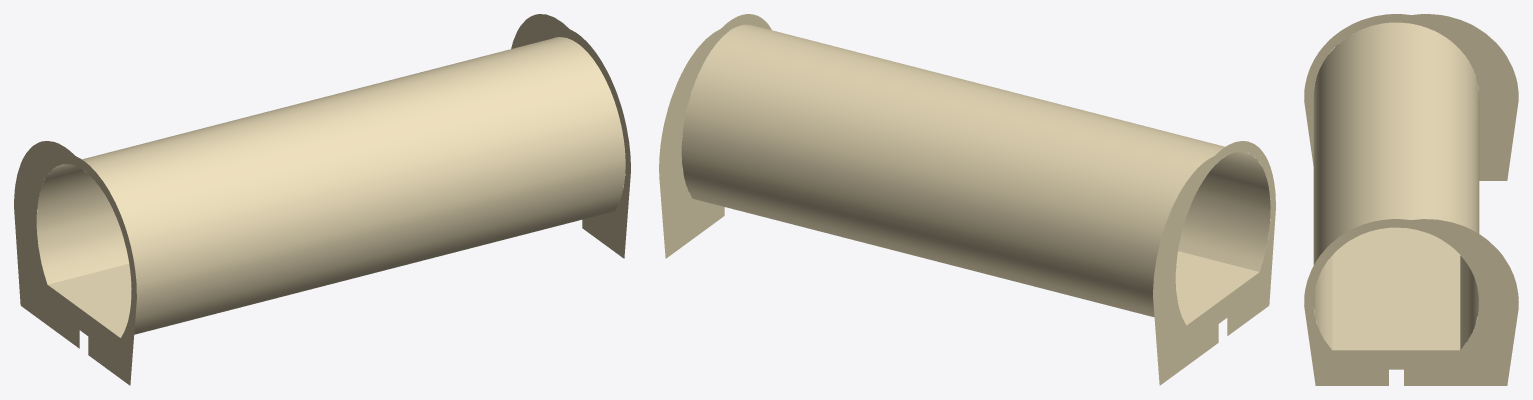
The model's file is 6-decimated-smoothed-mirror.FBX.
The picture shows the model from 3 angles, left to right: view 1: azimuth 30°, elevation 25°; view 2: azimuth 150°, elevation 25°; view 3: azimuth 270°, elevation 25°; orthographic projection. The views are drawn at different scales.
Visible parts, largest first — view 1: 6-decimated-smoothed-mirror; view 2: 6-decimated-smoothed-mirror; view 3: 6-decimated-smoothed-mirror.
Boxes of the visible parts, left/top/right/bottom form: 6-decimated-smoothed-mirror: left=14, top=14, right=630, bottom=385; 6-decimated-smoothed-mirror: left=659, top=14, right=1275, bottom=385; 6-decimated-smoothed-mirror: left=1304, top=14, right=1518, bottom=385.
Bounding box in the file's own units: 1323 × 570 × 505.
